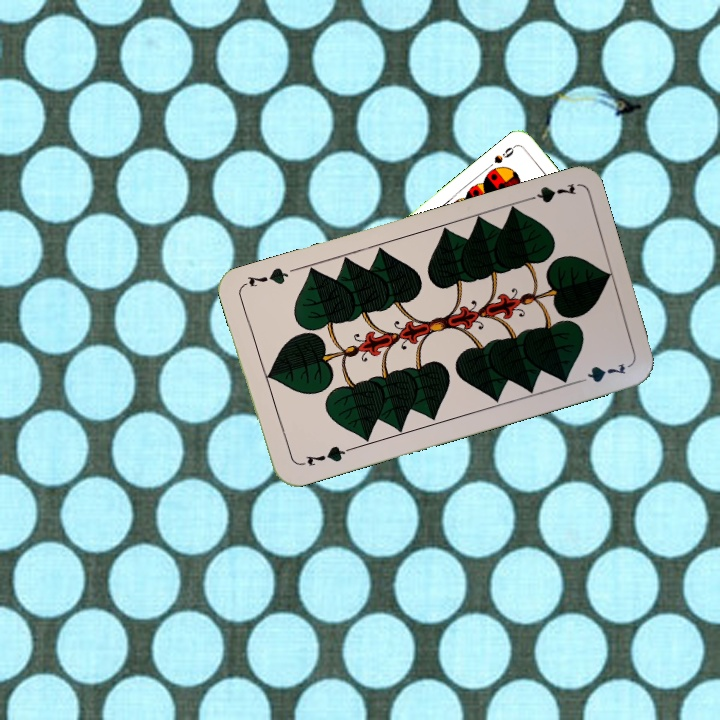G7: (519, 179, 578, 206), (294, 442, 352, 469)
S9: (490, 141, 519, 166)
